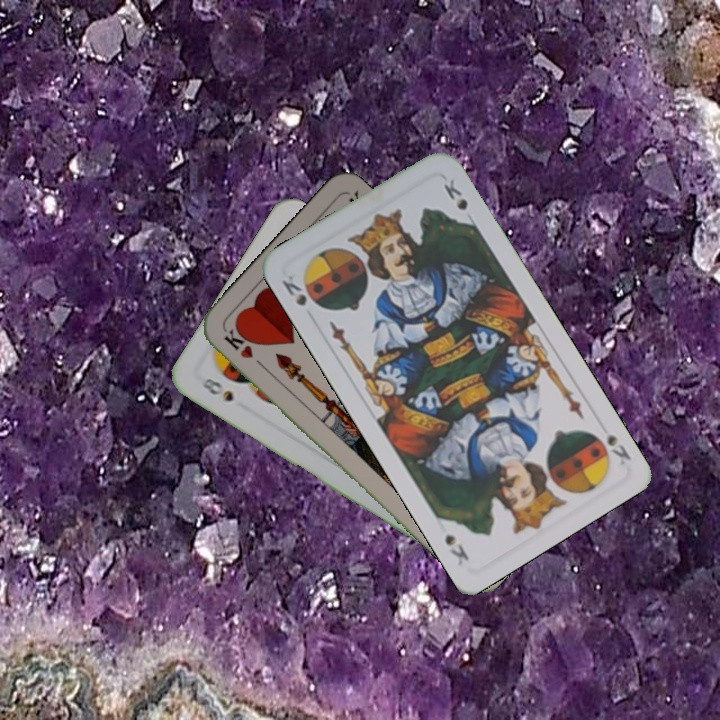HK: (220, 325, 269, 372)
S8: (194, 374, 237, 405)
SK: (587, 427, 634, 468), (277, 270, 310, 309)
